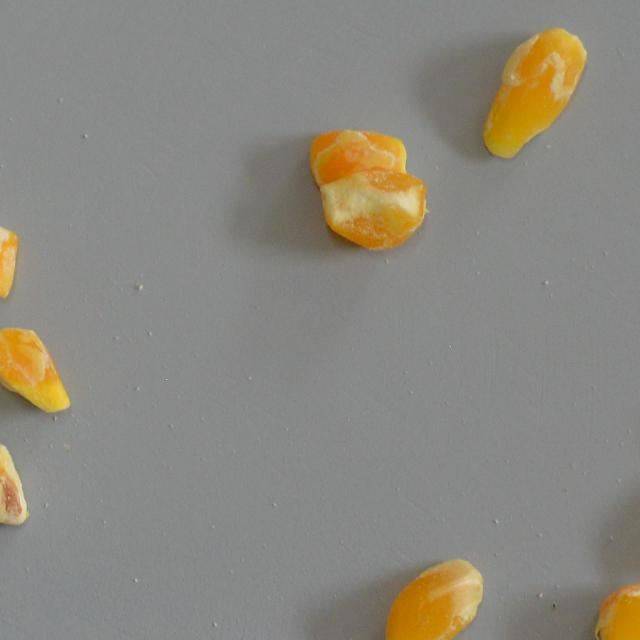dañado: (0, 436, 32, 528)
pelicula: (479, 26, 589, 158), (318, 170, 430, 252), (378, 555, 486, 640), (0, 326, 72, 412), (308, 128, 408, 184), (592, 576, 640, 640), (0, 210, 20, 298)
